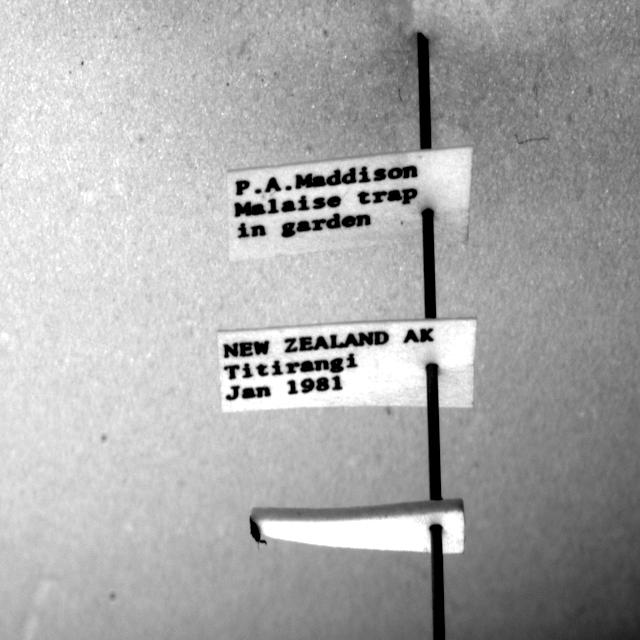typed_label: (228, 148, 472, 261), (218, 319, 476, 412)
